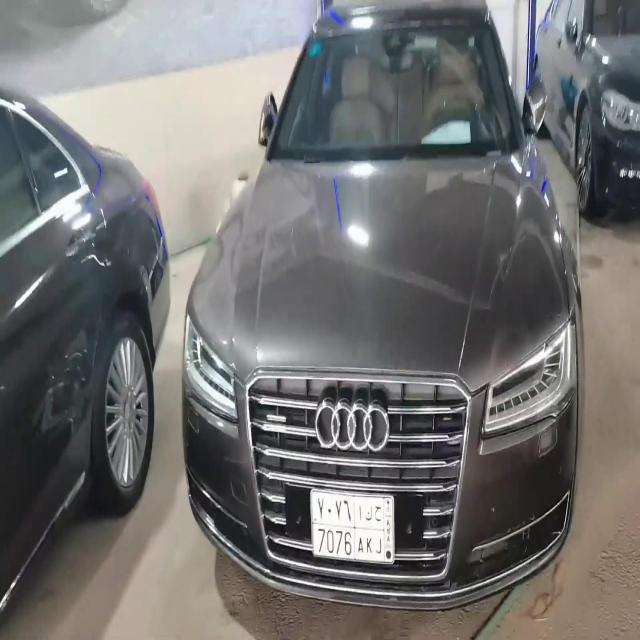license_plate: (304, 480, 397, 568)
